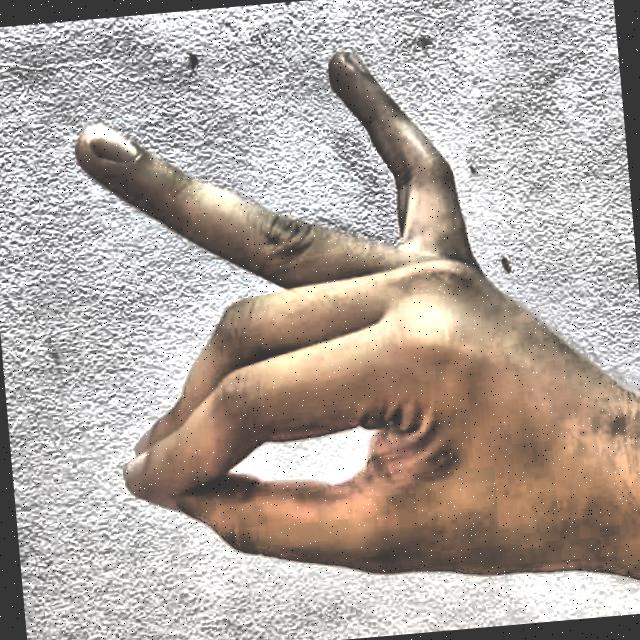Na: (32, 1, 573, 640)
